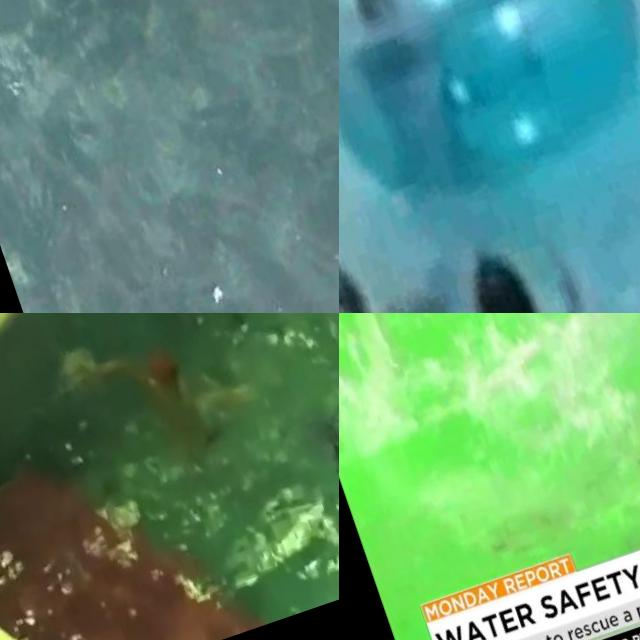drowning: (51, 313, 247, 484), (357, 235, 472, 313)
swimming: (515, 313, 640, 491), (457, 239, 567, 313), (339, 0, 445, 70)
